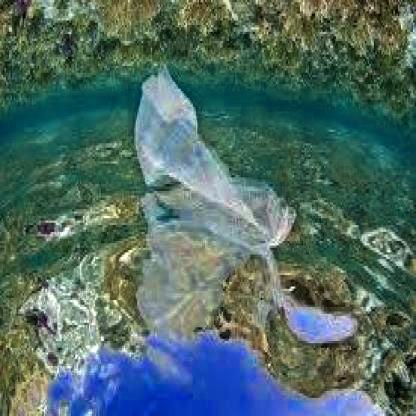pbag: (133, 61, 297, 254)
